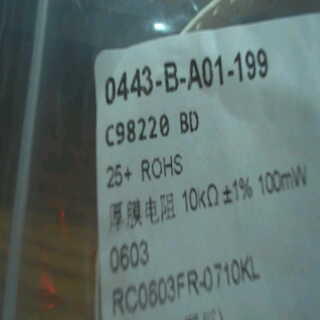10kR: (174, 178, 224, 212)
